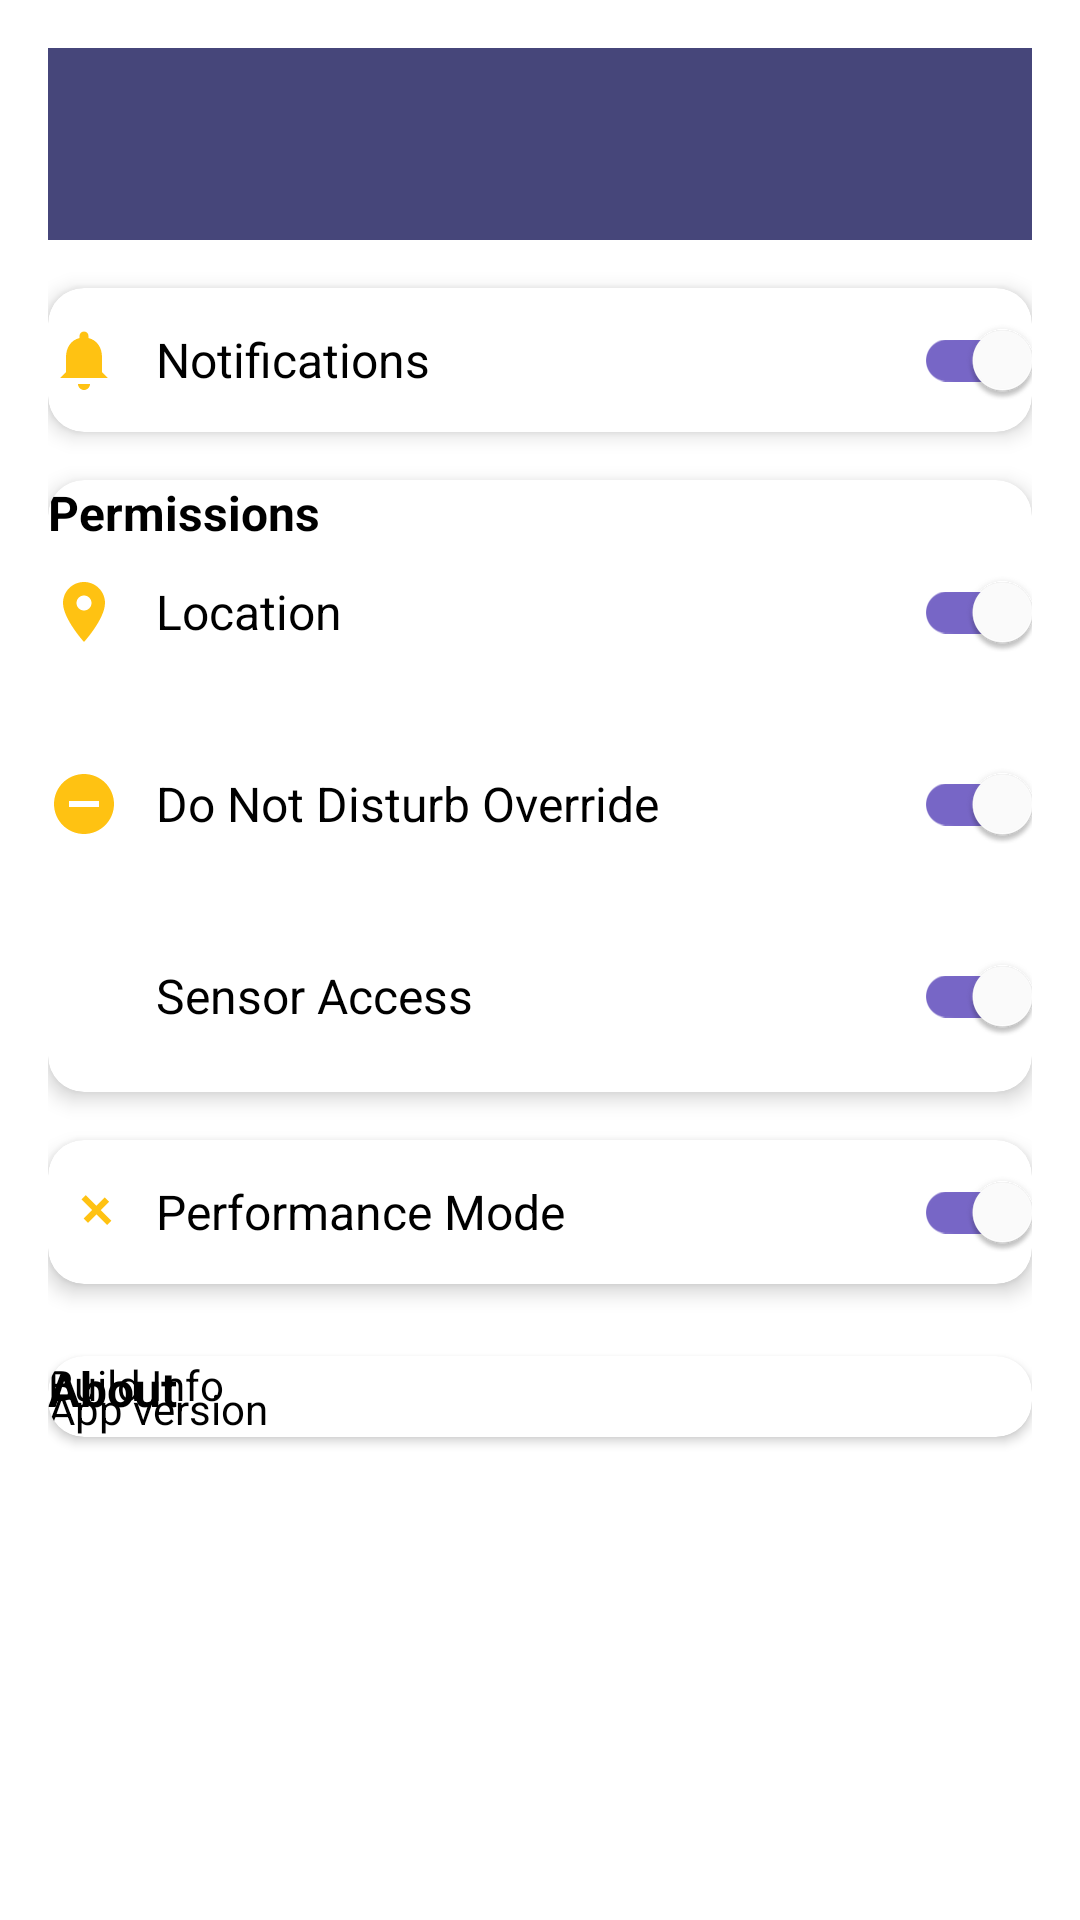

Icons on this 1080×1920 Android screen, each with its box as rect(x1, y1, x2, y2):
do not disturb on: rect(54, 774, 114, 834)
